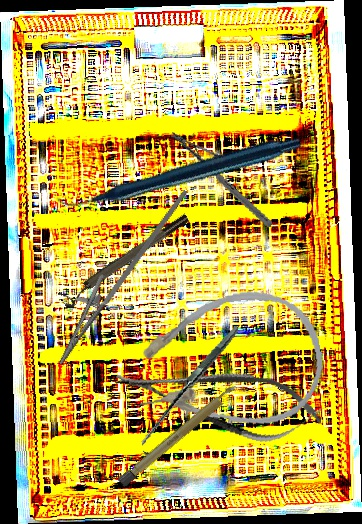Cannula: (124, 281, 330, 443)
Fixation Ring: (57, 211, 195, 311)
Handpiece: (54, 64, 304, 278)
Hook Surgical: (123, 325, 259, 460)
Micro Scissor: (109, 344, 328, 454)
Needle Holder: (43, 168, 189, 379), (155, 131, 288, 228)
Scalpel Handle: (116, 381, 242, 489)
